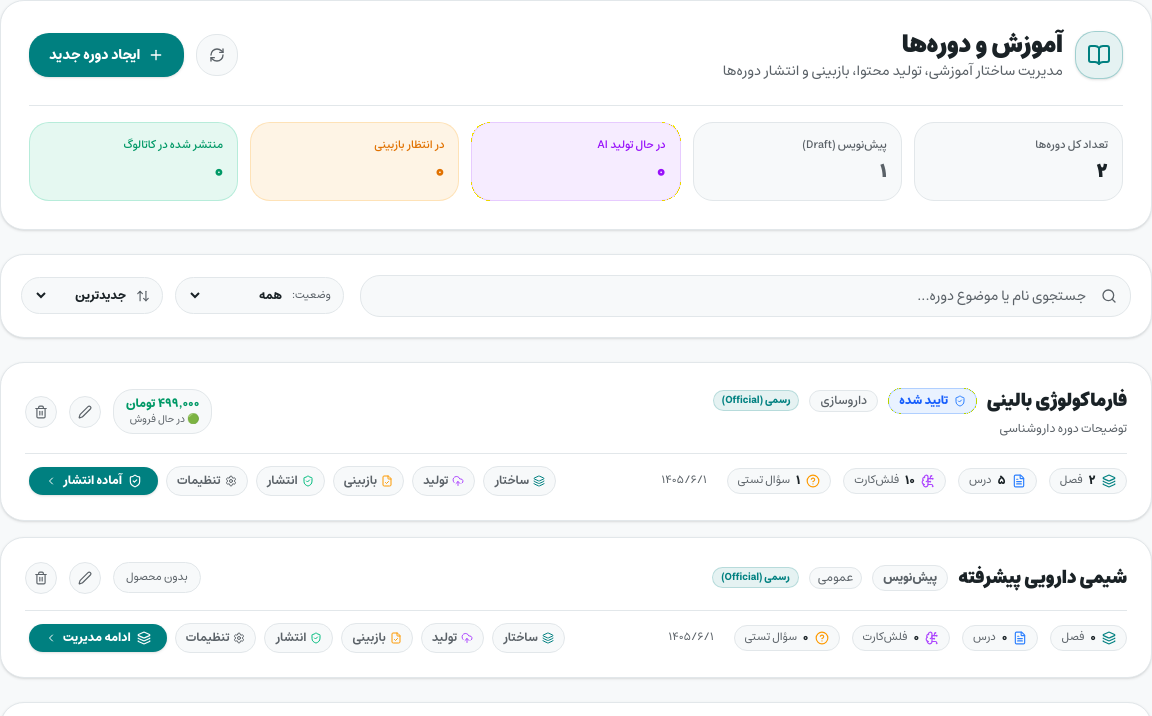
Test case: Education Workspace (/admin/courses) — Step 2 Test Matrix › Case 3: Status filter filters course cards locally
Check: the link "فارماکولوژی بالینی" is shown, box [987, 386, 1127, 414]
Check: the link "شیمی دارویی پیشرفته" is shown, box [958, 564, 1127, 592]
Note: Filter to "approved"
Select "تایید شده" in the dropdown named "فیلتر وضعیت دوره". click: (237,296)
box: [188, 284, 286, 307]
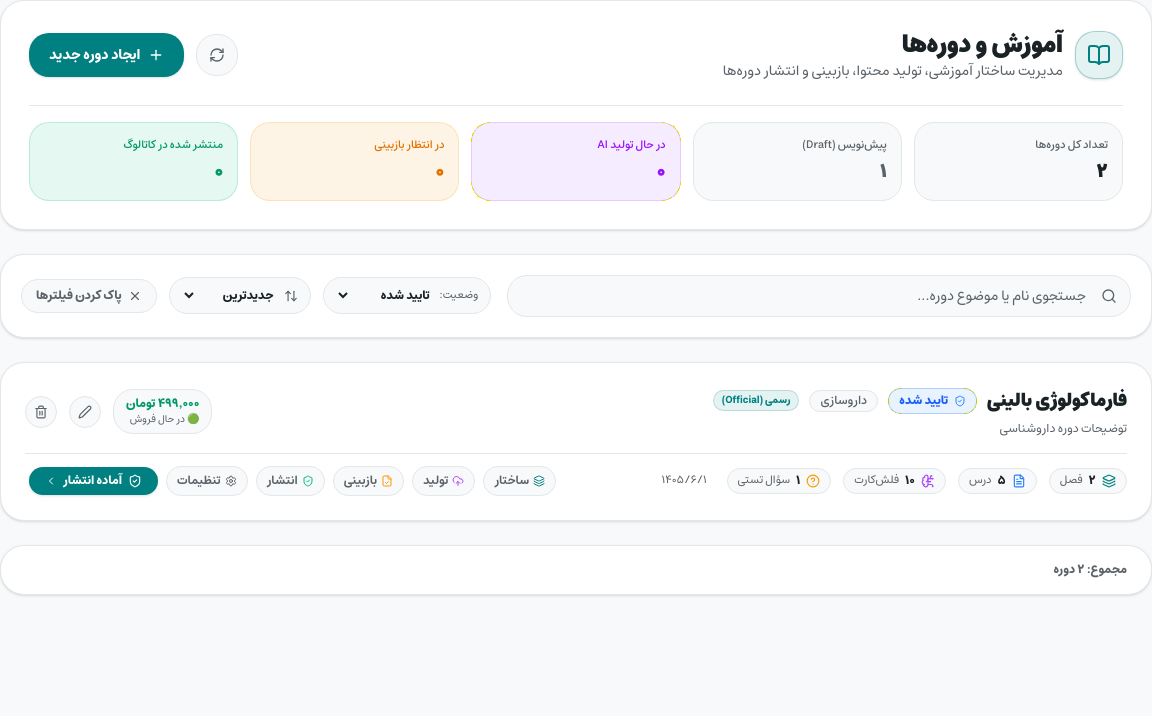
Check: the link "فارماکولوژی بالینی" is shown, box [987, 386, 1127, 414]
Check: the link "شیمی دارویی پیشرفته" is gone
